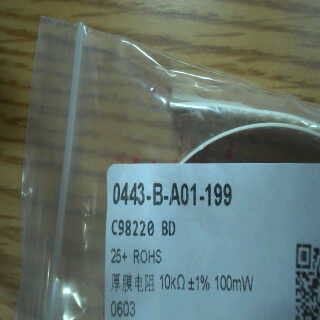10kR: (155, 269, 186, 294)
